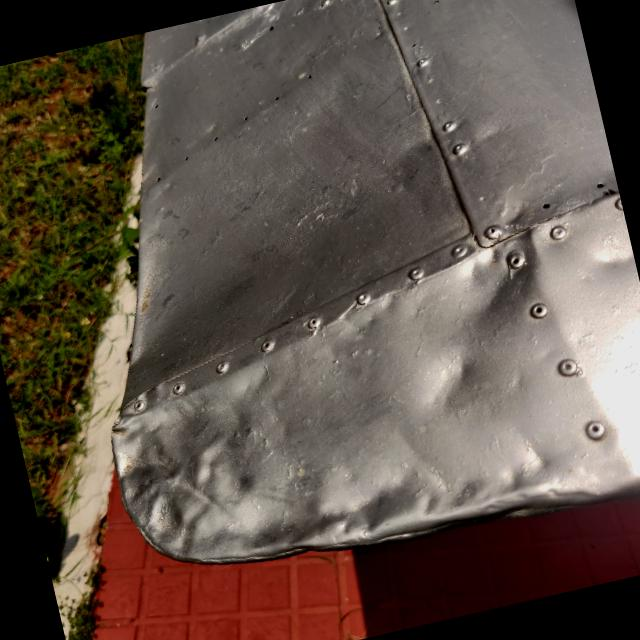dent: (249, 404, 606, 586), (94, 386, 290, 568), (442, 224, 557, 345), (394, 328, 506, 438), (568, 218, 640, 302)
